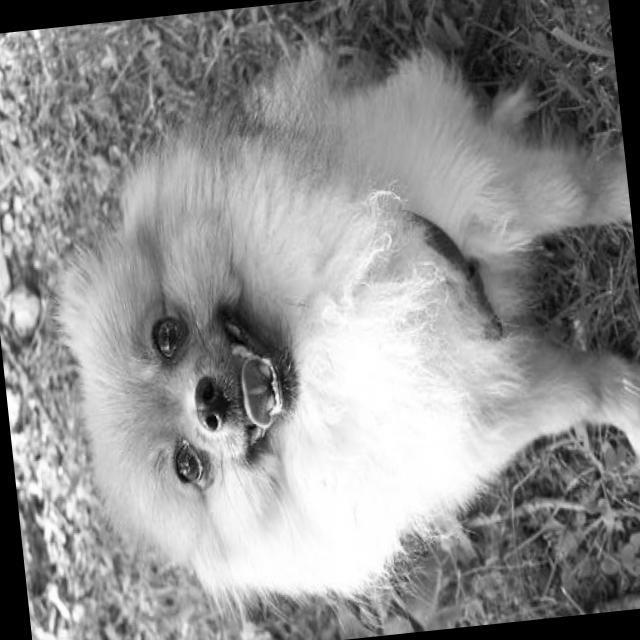sitting: (20, 2, 640, 635)
